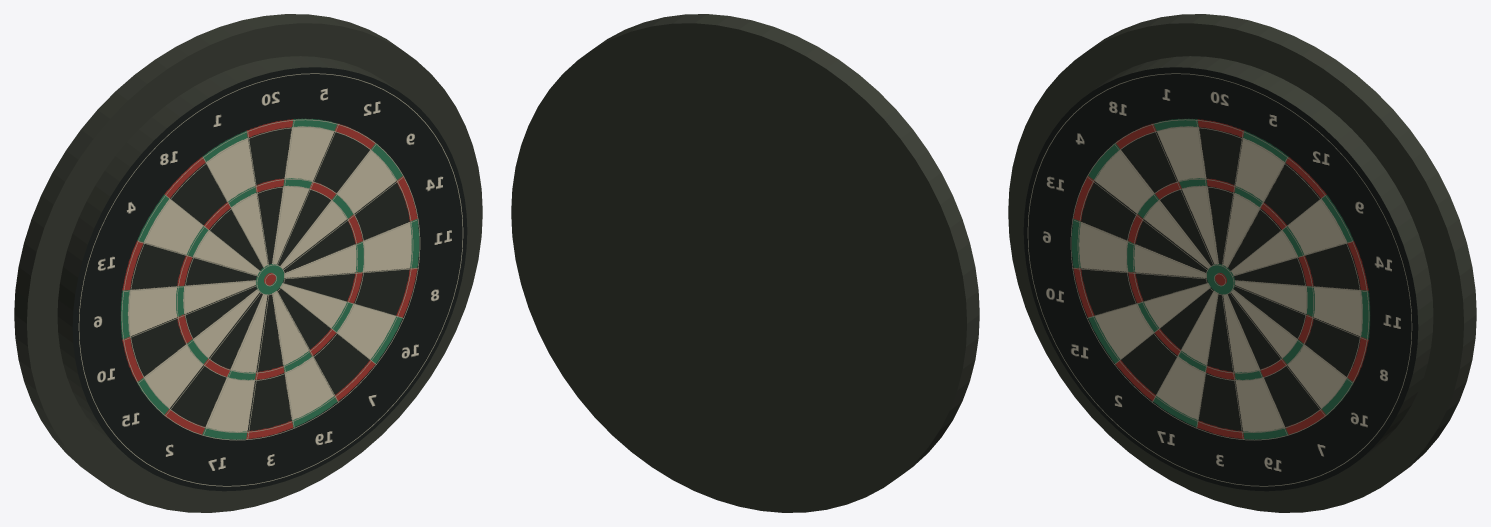
Rendered from DartsBoard.fbx.
The picture shows the model from 3 angles, left to right: view 1: azimuth 30°, elevation 25°; view 2: azimuth 150°, elevation 25°; view 3: azimuth 330°, elevation 25°; orthographic projection.
Parts seen in each view (by area): view 1: Darts_Board, Darts_Backplate, Darts_NumberRing, Darts_Wire; view 2: Darts_Backplate; view 3: Darts_Board, Darts_Backplate, Darts_NumberRing, Darts_Wire.
Part boxes in pixels (bbox=[...]): Darts_Board: bbox=[57, 56, 467, 491]; Darts_Backplate: bbox=[14, 14, 482, 512]; Darts_NumberRing: bbox=[82, 82, 459, 477]; Darts_Wire: bbox=[78, 73, 463, 486]; Darts_Backplate: bbox=[511, 14, 979, 512]; Darts_Board: bbox=[1023, 56, 1433, 491]; Darts_Backplate: bbox=[1008, 14, 1476, 512]; Darts_NumberRing: bbox=[1031, 82, 1408, 477]; Darts_Wire: bbox=[1027, 73, 1412, 486].
Size of the model in its own units: 0.52 by 0.52 by 0.057.
6 materials, 6 textured.
